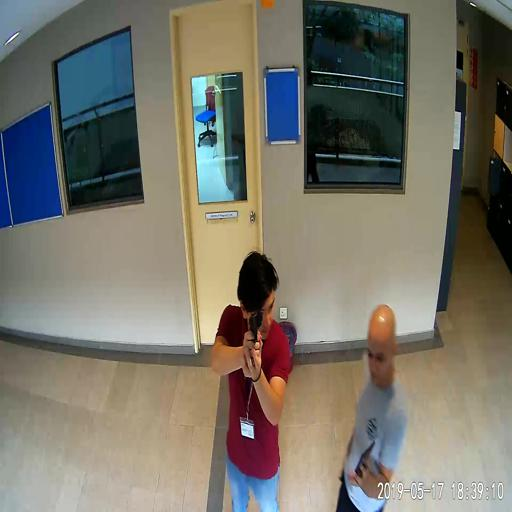pistol: (248, 309, 261, 363)
